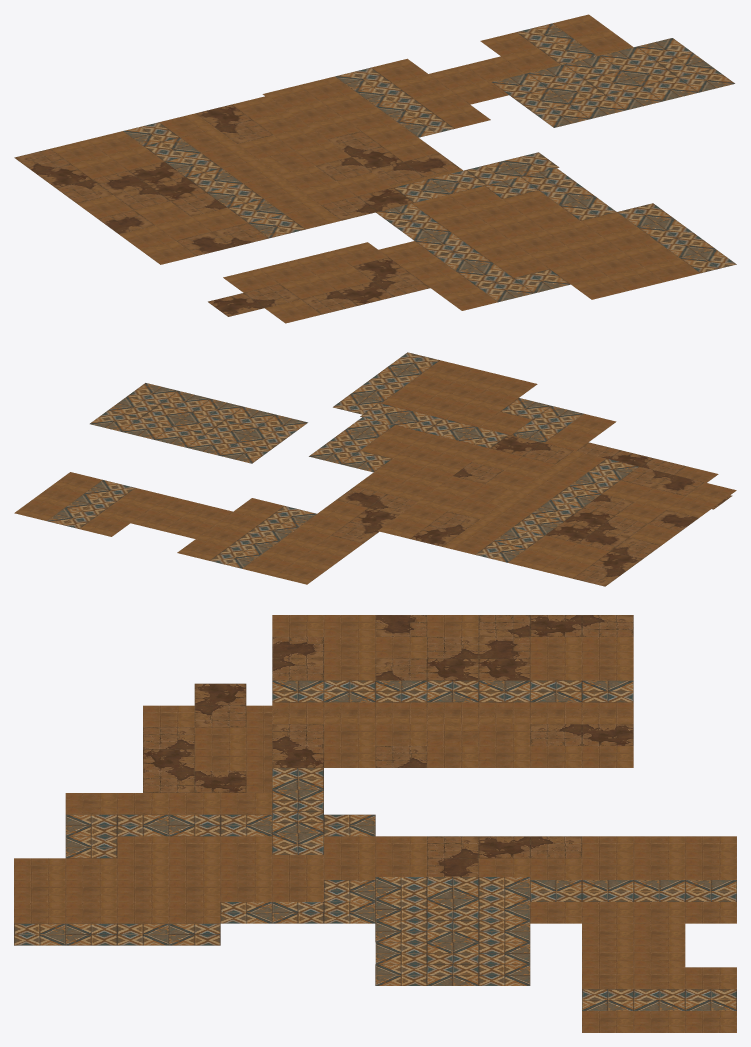
The model's file is Pyramid_Grave4F_all.FBX.
The picture shows the model from 3 angles, top to bottom: view 1: azimuth 30°, elevation 25°; view 2: azimuth 150°, elevation 25°; view 3: azimuth 270°, elevation 25°; orthographic projection. The views are drawn at different scales.
Parts seen in each view (by area): view 1: Pyramid_Grave4F02, Pyramid_Grave4F04, Pyramid_Grave4F03, Pyramid_Grave4F002, Pyramid_Grave4F05; view 2: Pyramid_Grave4F02, Pyramid_Grave4F04, Pyramid_Grave4F03, Pyramid_Grave4F05, Pyramid_Grave4F002; view 3: Pyramid_Grave4F02, Pyramid_Grave4F04, Pyramid_Grave4F03, Pyramid_Grave4F002, Pyramid_Grave4F05.
Boxes of the visible parts, <box> form: Pyramid_Grave4F02: <box>262,14,736,310</box>; Pyramid_Grave4F04: <box>14,95,413,264</box>; Pyramid_Grave4F03: <box>491,38,734,127</box>; Pyramid_Grave4F002: <box>208,242,430,323</box>; Pyramid_Grave4F05: <box>394,152,559,202</box>; Pyramid_Grave4F02: <box>14,352,616,584</box>; Pyramid_Grave4F04: <box>378,435,736,586</box>; Pyramid_Grave4F03: <box>90,383,307,463</box>; Pyramid_Grave4F05: <box>360,403,508,448</box>; Pyramid_Grave4F002: <box>577,442,732,509</box>; Pyramid_Grave4F02: <box>14,793,736,1032</box>; Pyramid_Grave4F04: <box>272,615,633,767</box>; Pyramid_Grave4F03: <box>375,877,530,985</box>; Pyramid_Grave4F002: <box>143,683,272,792</box>; Pyramid_Grave4F05: <box>272,768,323,854</box>.
Bounding box in the file's own units: 68 × 4 × 56.
